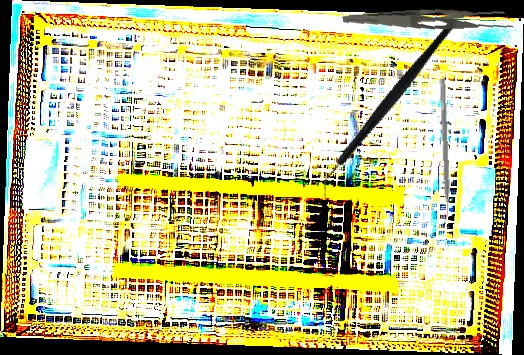Chopper: (278, 21, 496, 201)
Dressing Forceps: (342, 3, 514, 42)
Spatula Surgical: (433, 78, 453, 224)
